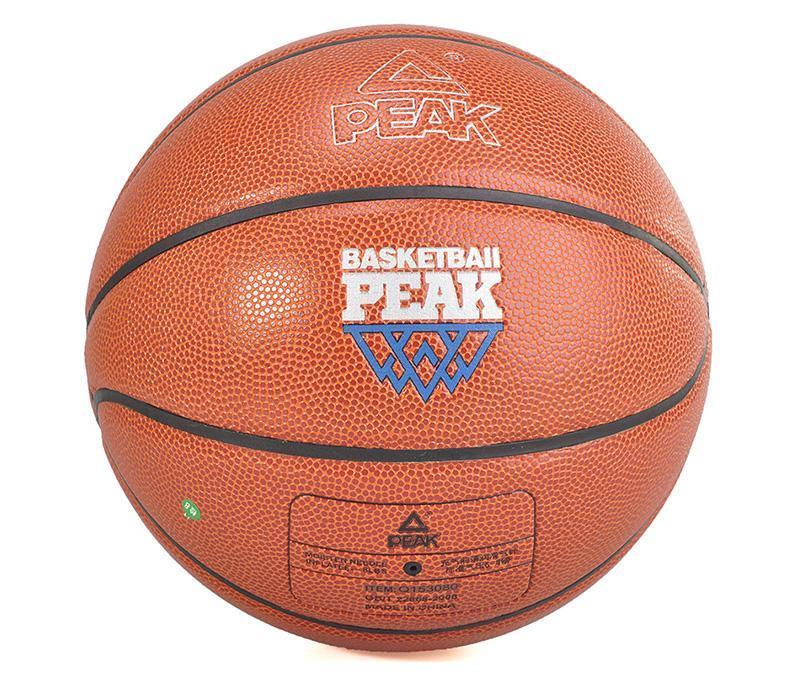ball: (83, 23, 712, 653)
